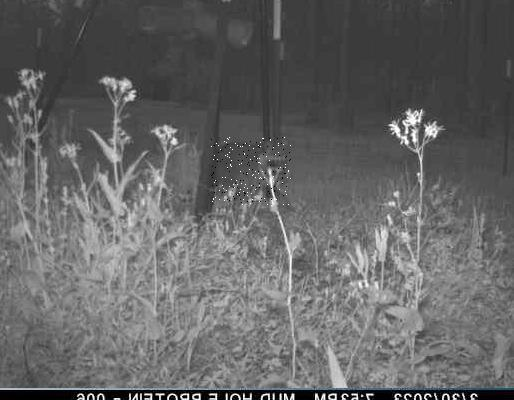Raccoon: (210, 138, 290, 206)
